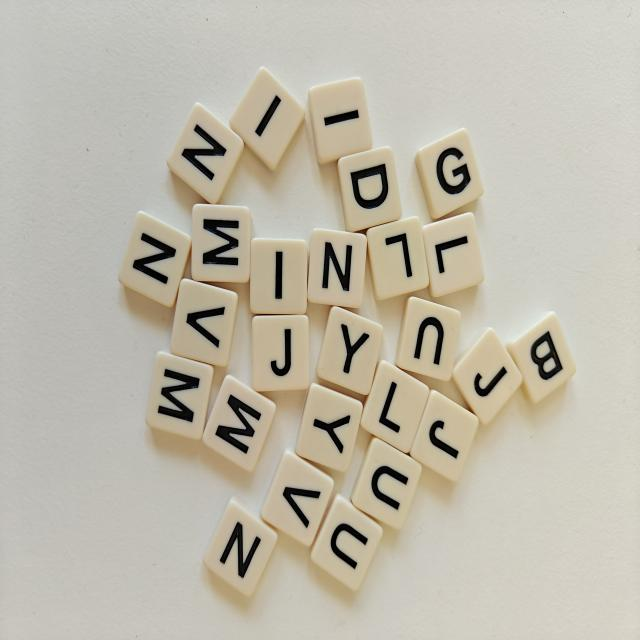b: (506, 312, 576, 402)
d: (337, 147, 401, 232)
g: (415, 129, 483, 219)
i: (230, 68, 305, 170), (308, 78, 372, 164), (250, 239, 307, 315)
j: (452, 327, 522, 424), (410, 390, 478, 481), (252, 315, 309, 391)
l: (360, 360, 429, 453), (422, 212, 484, 297), (366, 217, 429, 299)
m: (202, 375, 275, 471), (146, 351, 214, 439), (191, 204, 251, 282)
n: (167, 103, 244, 204), (203, 497, 277, 595), (119, 212, 191, 307), (307, 229, 367, 308)
u: (311, 494, 382, 590), (351, 437, 422, 529), (395, 297, 461, 381)
v: (261, 450, 333, 546), (171, 279, 238, 366)
y: (316, 306, 383, 395), (296, 383, 362, 472)
